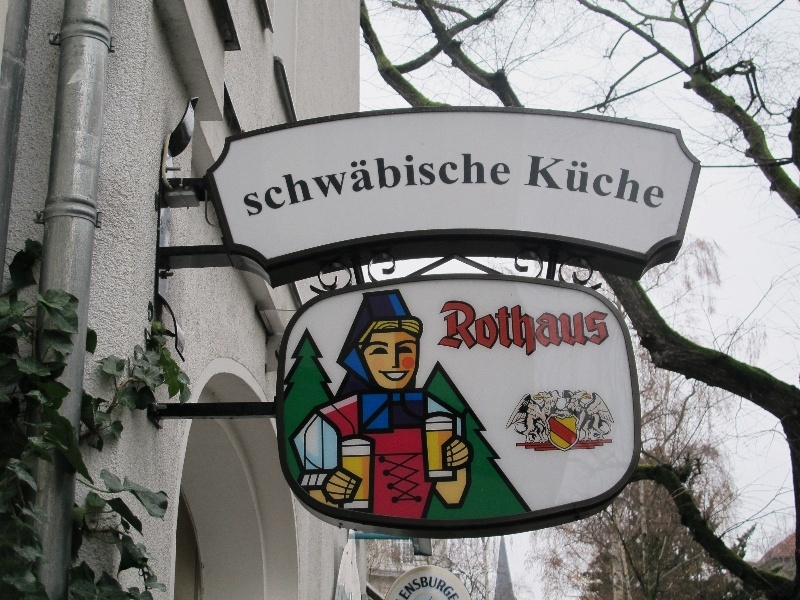text: (241, 148, 256, 217), (257, 148, 272, 217), (273, 148, 288, 217), (289, 148, 304, 217), (305, 148, 320, 217), (321, 148, 336, 217), (337, 148, 352, 217), (353, 148, 368, 217), (369, 148, 384, 217), (385, 148, 400, 217), (401, 148, 416, 217), (417, 148, 432, 217), (433, 148, 448, 217), (449, 148, 464, 217), (465, 148, 480, 217), (481, 148, 496, 217), (497, 148, 511, 217), (593, 302, 609, 358), (529, 153, 544, 211), (545, 153, 560, 211), (561, 153, 576, 211), (577, 153, 592, 211), (593, 153, 608, 211), (609, 153, 624, 211), (625, 153, 640, 211), (641, 153, 656, 211), (449, 302, 464, 358), (465, 302, 480, 358), (481, 302, 496, 358), (497, 302, 512, 358), (513, 302, 528, 358), (529, 302, 544, 358), (545, 302, 560, 358), (561, 302, 576, 358), (577, 302, 592, 358), (657, 153, 665, 211), (441, 302, 448, 358), (401, 577, 416, 600), (417, 577, 432, 600), (433, 577, 448, 600), (449, 577, 460, 600), (238, 148, 240, 217), (399, 577, 400, 600)
